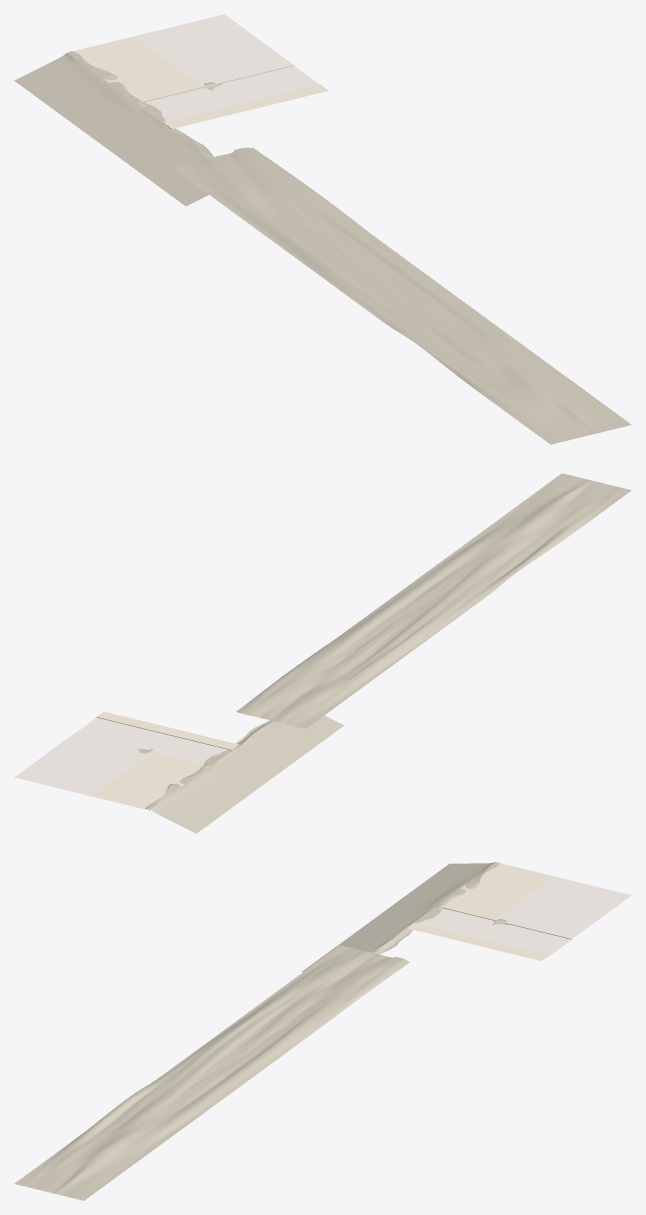
The model's file is Chao Outside.fbx.
3 views of the same model, one above another, from view 1: azimuth 30°, elevation 25°; view 2: azimuth 150°, elevation 25°; view 3: azimuth 330°, elevation 25° (orthographic). The views are drawn at different scales.
Visible parts, largest first — view 1: Areia da Janela, Chao_1, Chao_2; view 2: Areia da Janela, Chao_1, Chao_2; view 3: Areia da Janela, Chao_1, Chao_2.
Part boxes in pixels (x1,y1,x2,y2): Areia da Janela: (172,147,631,444); Chao_1: (73,14,328,129); Chao_2: (14,51,222,206); Areia da Janela: (236,473,631,728); Chao_1: (14,711,238,810); Chao_2: (137,715,343,833); Areia da Janela: (14,945,409,1200); Chao_1: (406,863,631,960); Chao_2: (302,862,509,971).
Bounding box in the file's own units: 18307 × 1496 × 78344.
